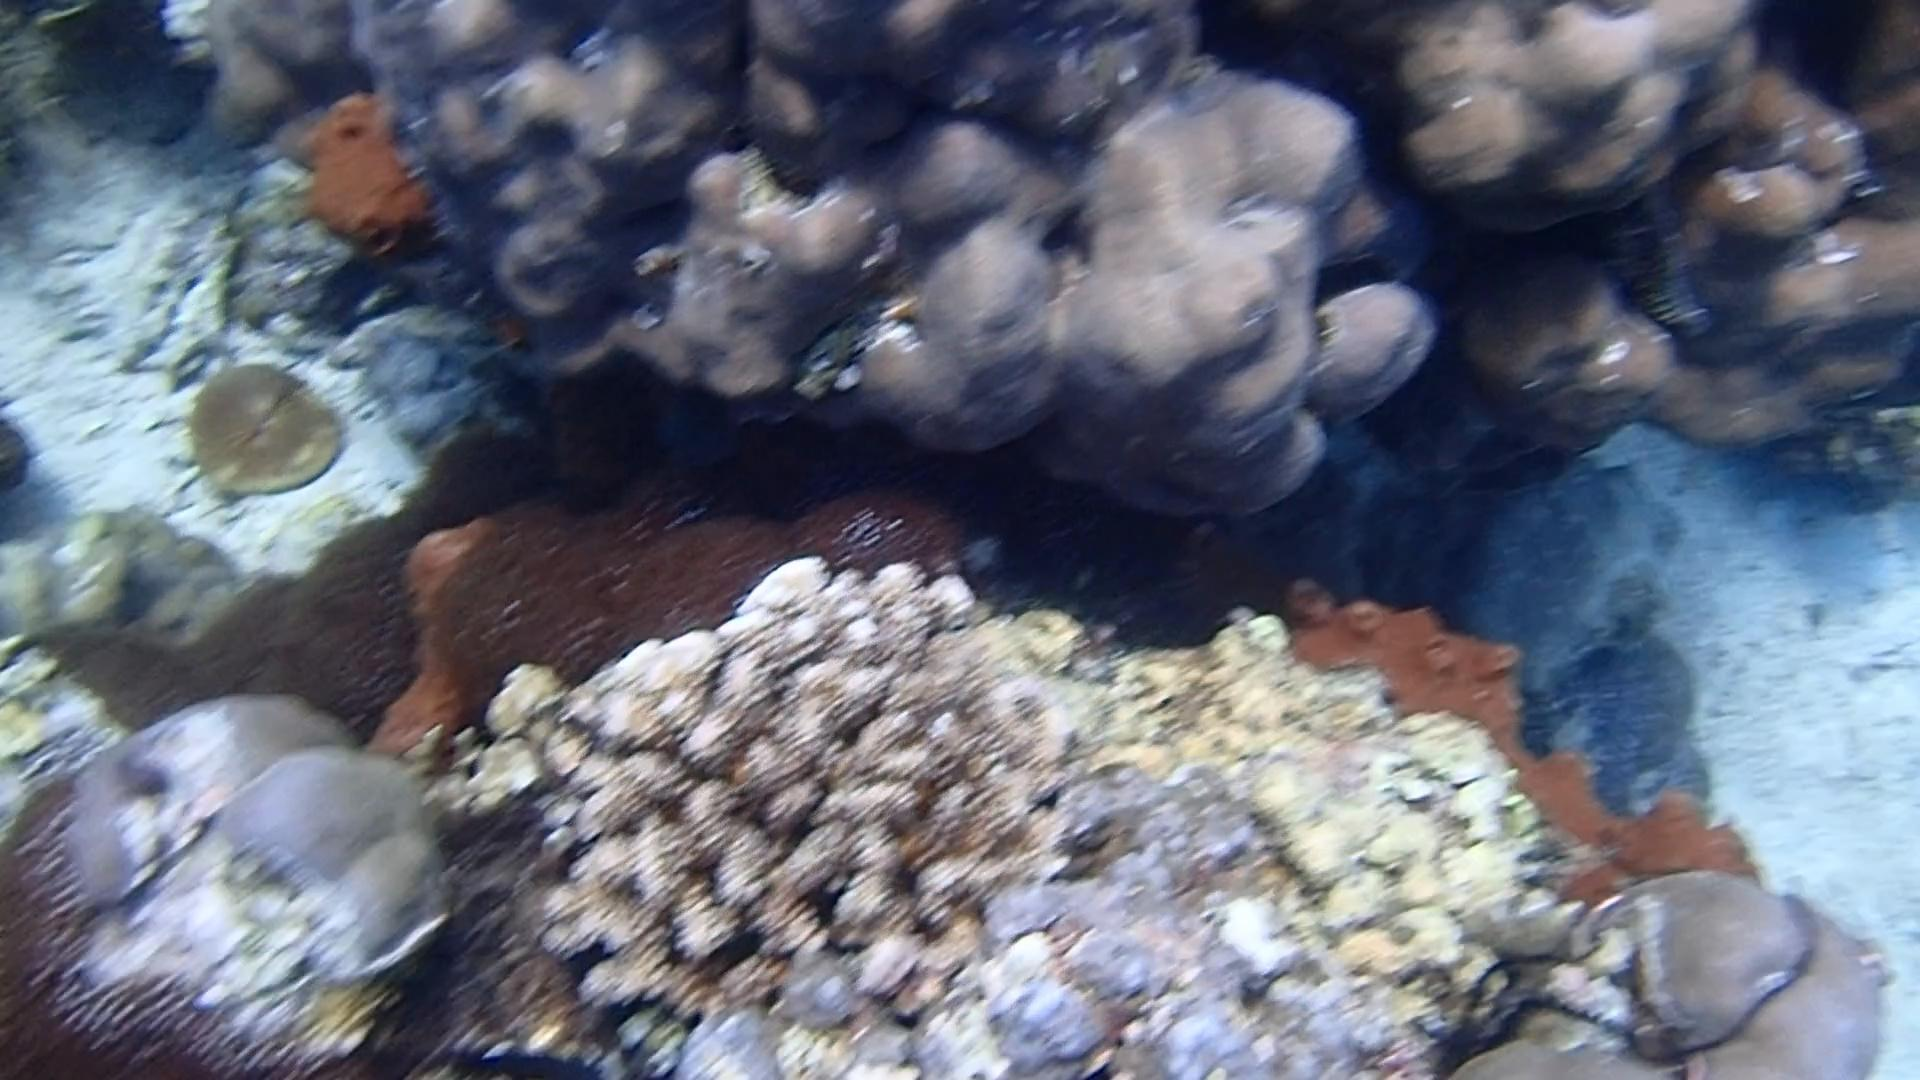Dark Fish: (438, 1042, 601, 1080)
